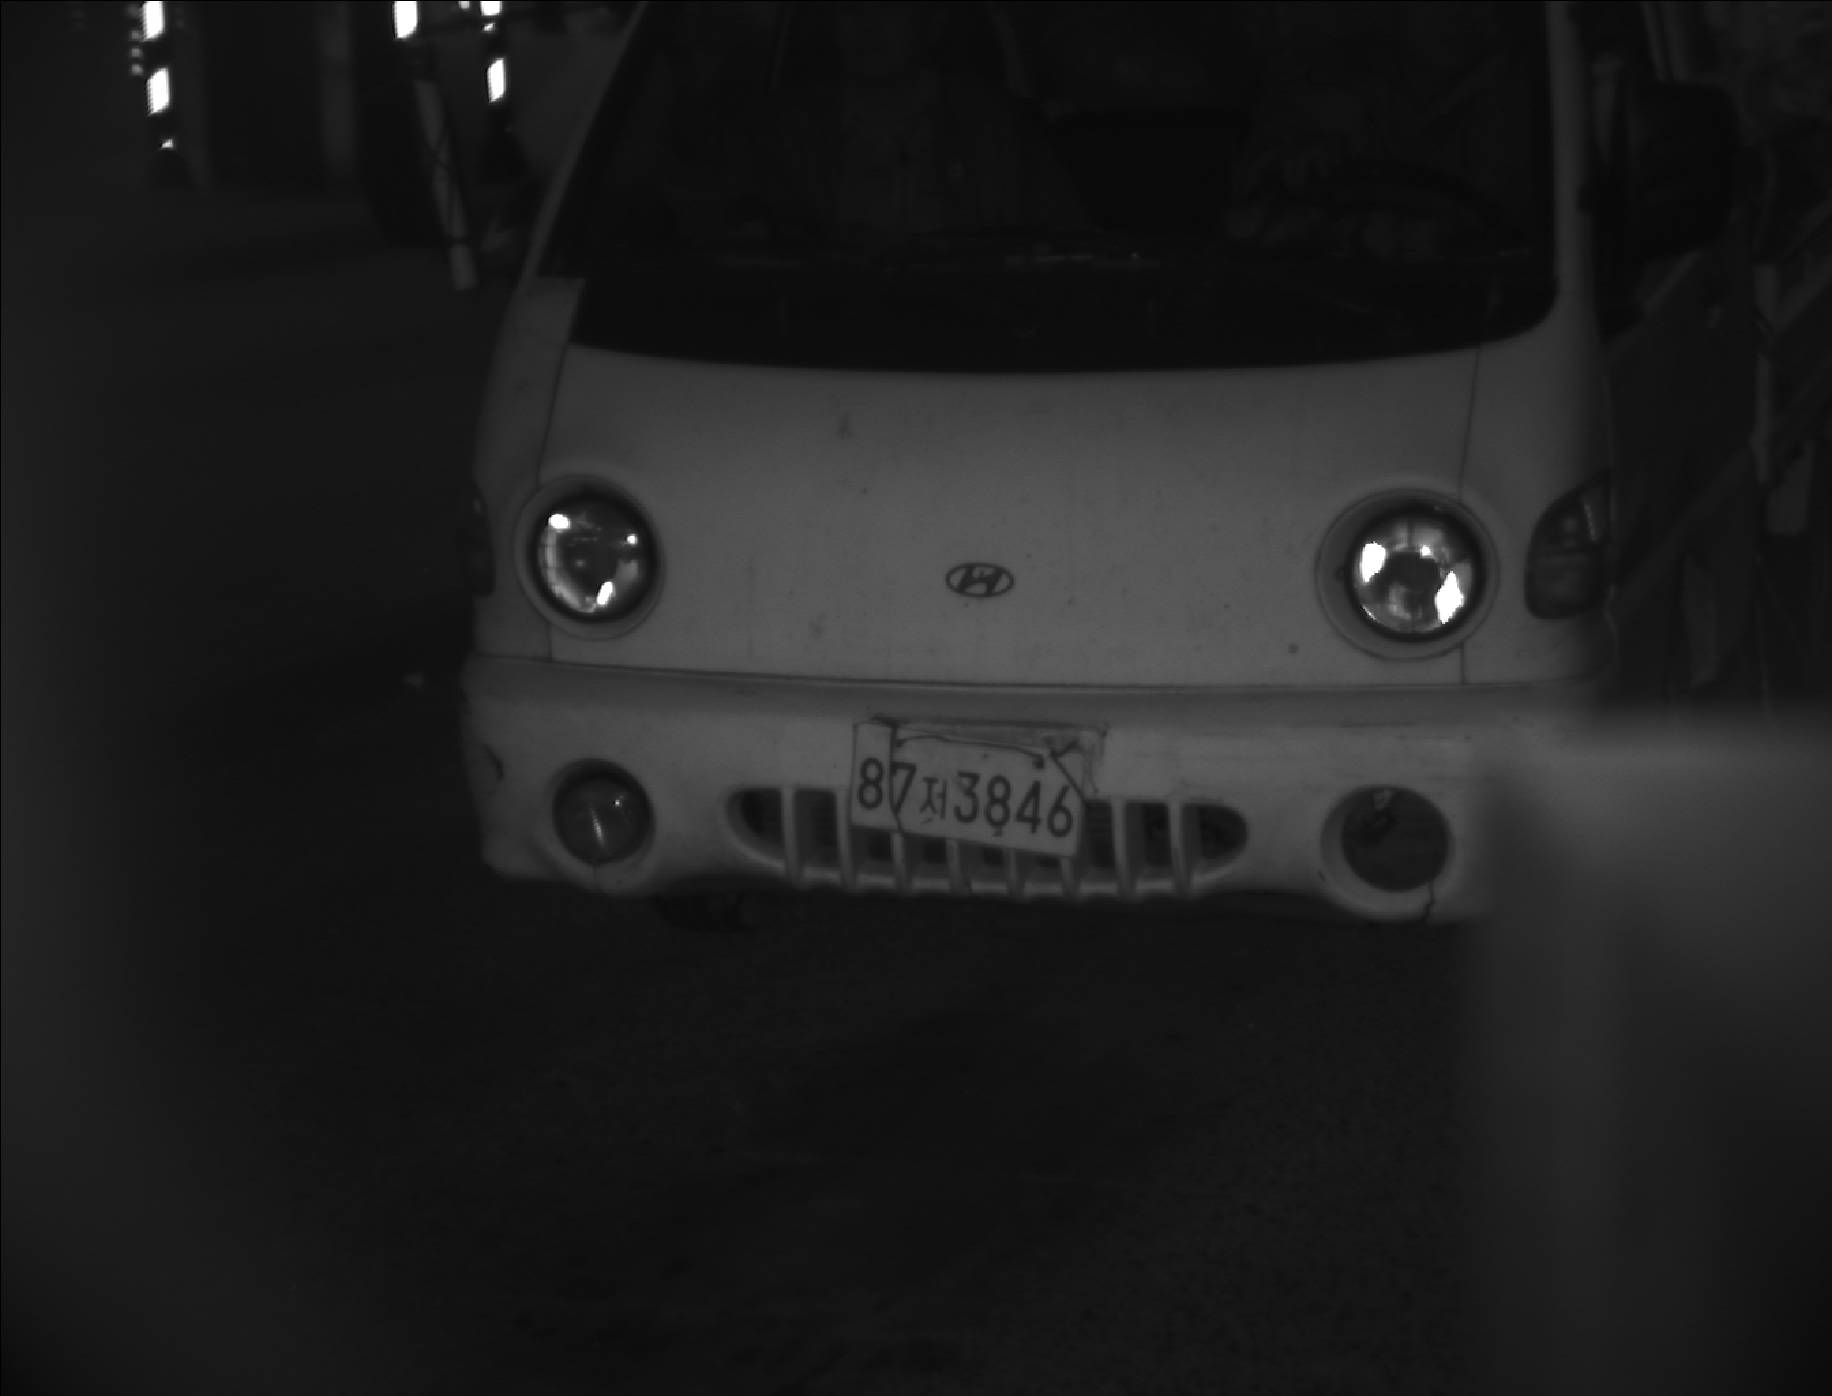car: (447, 2, 1832, 960)
plate: (849, 712, 1096, 858)
